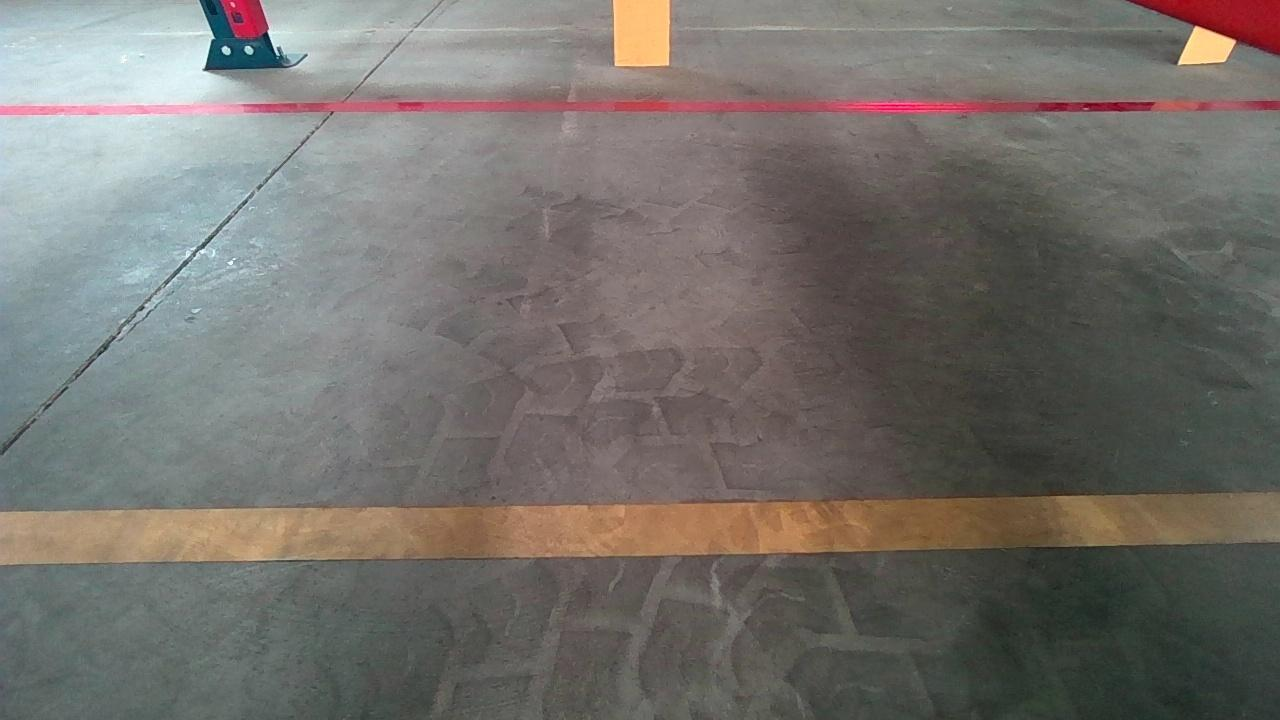orange_strip: (1172, 13, 1248, 67), (614, 0, 671, 66)
red_line: (0, 100, 1280, 116)
yellow_line: (2, 489, 1277, 567)
